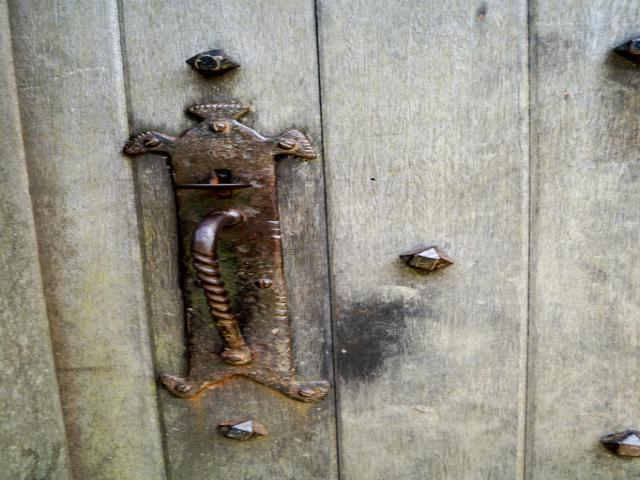Door-handle: (122, 102, 330, 404)
